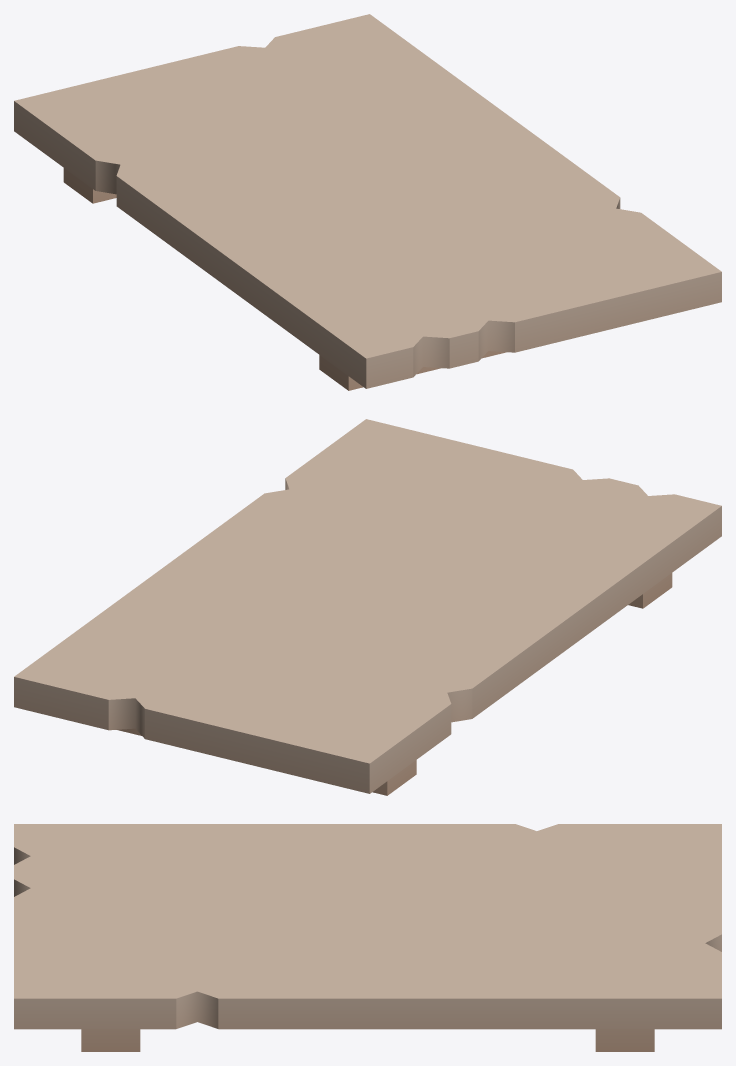
Rendered from cutting-board-japanese.glb.
3 renders of one model, top to bottom at view 1: azimuth 30°, elevation 25°; view 2: azimuth 150°, elevation 25°; view 3: azimuth 270°, elevation 25°, orthographic.
Parts seen in each view (by area): view 1: cutting-board-japanese; view 2: cutting-board-japanese; view 3: cutting-board-japanese.
Boxes of the visible parts, x1,y1,x2,y2 form: cutting-board-japanese: [14, 14, 721, 390]; cutting-board-japanese: [14, 419, 721, 795]; cutting-board-japanese: [14, 824, 721, 1051].
Size of the model in its own units: 0.49 by 0.08 by 0.84.
